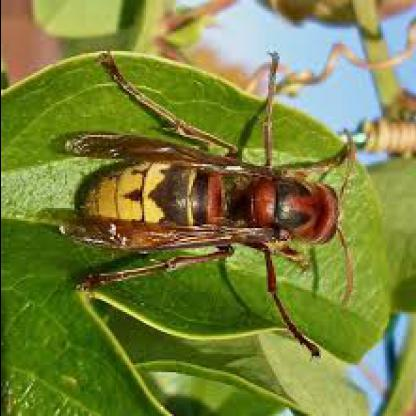european: (81, 43, 358, 364)
